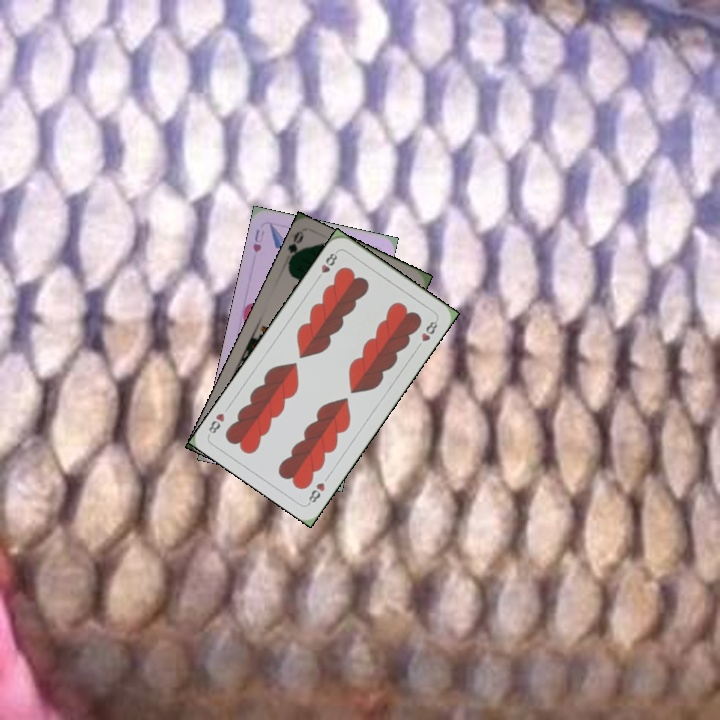GO: (284, 228, 306, 269)
H8: (313, 247, 340, 283), (304, 479, 328, 507)
HU: (249, 225, 267, 255)
